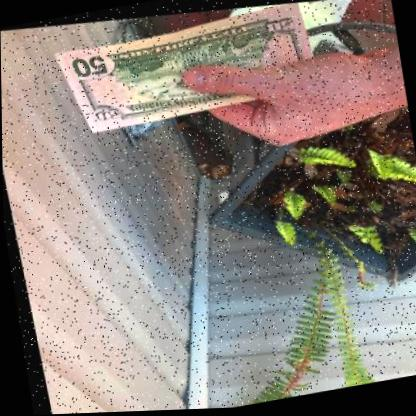dollar_back: (49, 0, 318, 131)
